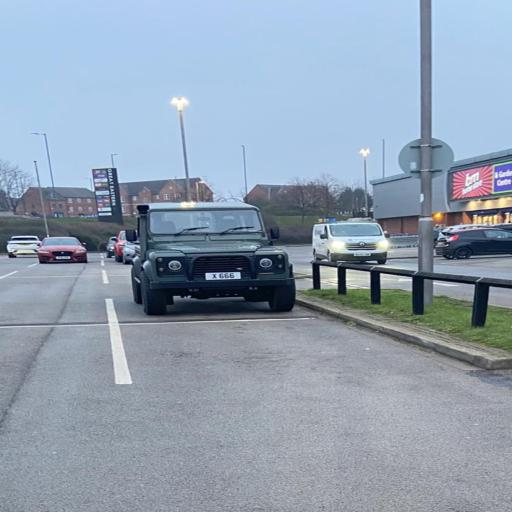numberplates: (206, 272, 241, 280), (354, 251, 371, 256), (56, 256, 70, 259)
